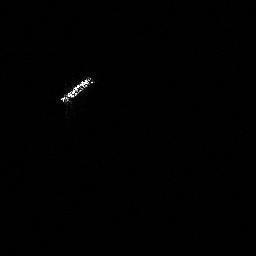ship: (57, 69, 102, 106)
